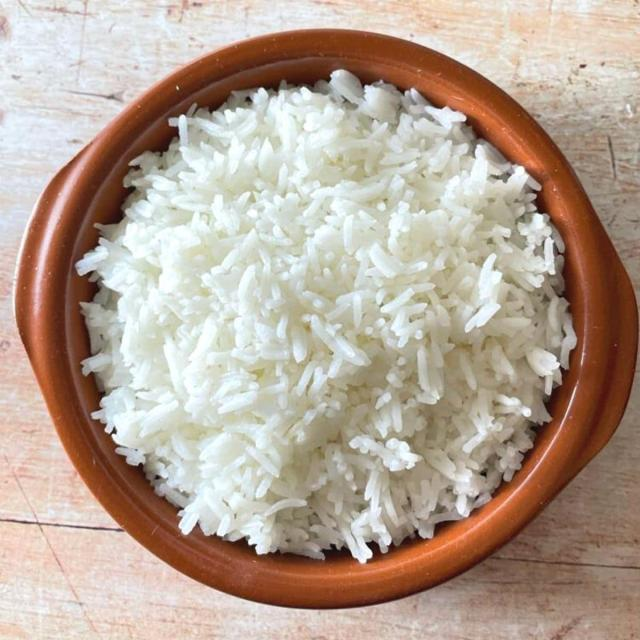rice: (95, 81, 572, 558)
